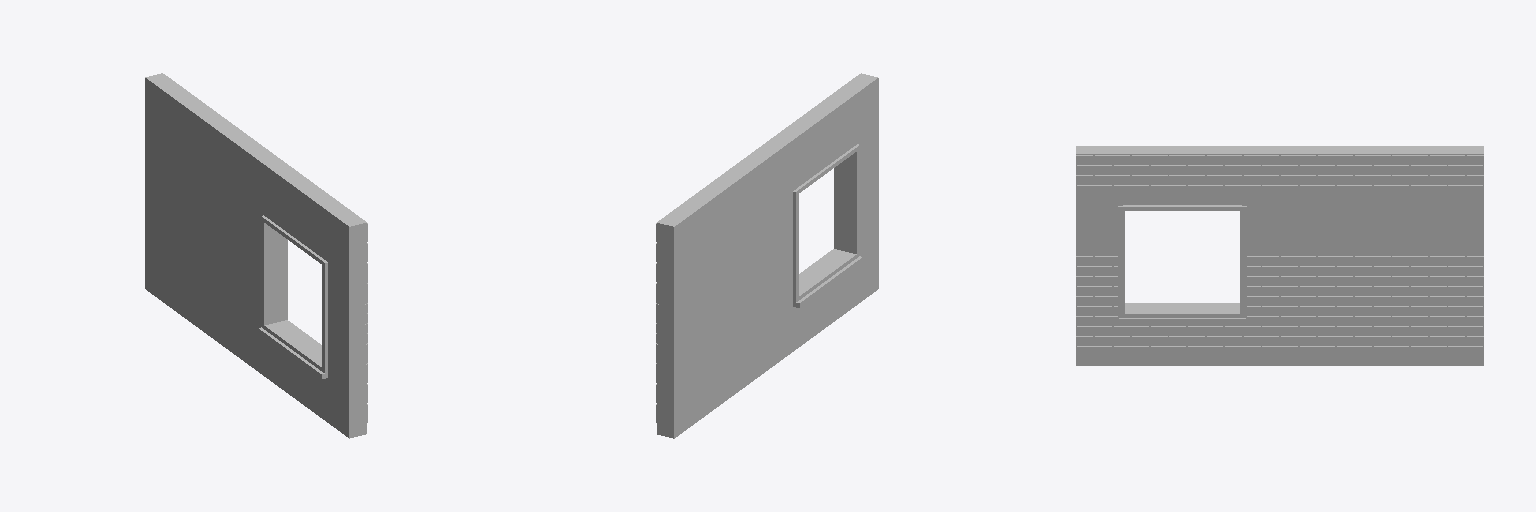
The model's file is wall_with_left_window.obj.
3 views of the same model, side by side, from view 1: azimuth 30°, elevation 25°; view 2: azimuth 150°, elevation 25°; view 3: azimuth 270°, elevation 25° (orthographic).
Parts seen in each view (by area): view 1: VisualWall.005_Cube.021, VisualWindowsillLeft.004_Cube.020; view 2: VisualWall.005_Cube.021, VisualWindowsillLeft.004_Cube.020; view 3: VisualWall.005_Cube.021, VisualWindowsillLeft.004_Cube.020.
Part boxes in pixels (bbox=[...]): VisualWall.005_Cube.021: bbox=[145, 73, 367, 438]; VisualWindowsillLeft.004_Cube.020: bbox=[258, 215, 327, 379]; VisualWall.005_Cube.021: bbox=[656, 73, 878, 438]; VisualWindowsillLeft.004_Cube.020: bbox=[793, 144, 862, 307]; VisualWall.005_Cube.021: bbox=[1076, 146, 1483, 365]; VisualWindowsillLeft.004_Cube.020: bbox=[1118, 205, 1246, 323].
Size of the model in its own units: 0.4367 by 3 by 5.25.